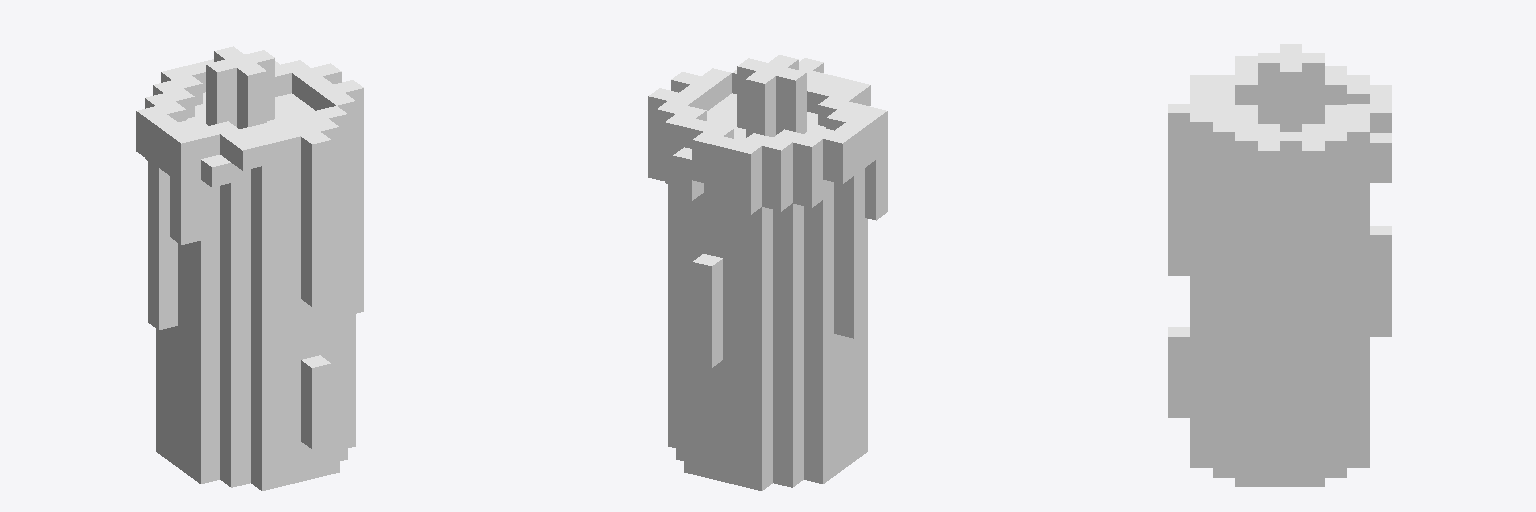
Rendered from candle.obj.
3 renders of one model, left to right at view 1: azimuth 30°, elevation 25°; view 2: azimuth 150°, elevation 25°; view 3: azimuth 270°, elevation 25°, orthographic.
Visible parts, largest first — view 1: object 1; view 2: object 1; view 3: object 1.
Part boxes in pixels (bbox=[...]): object 1: bbox=[136, 46, 363, 490]; object 1: bbox=[648, 55, 887, 490]; object 1: bbox=[1168, 44, 1391, 486].
Bounding box in the file's own units: 1 × 1.9 × 1.